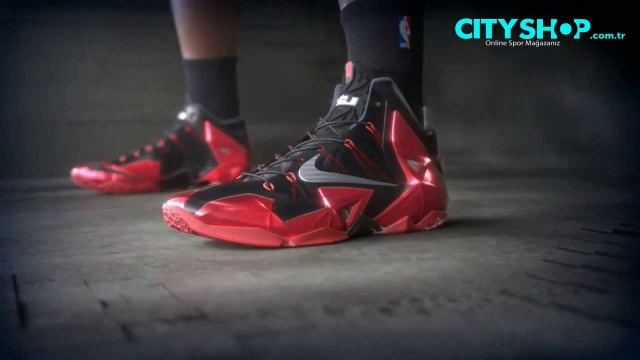nike: (296, 152, 404, 202)
